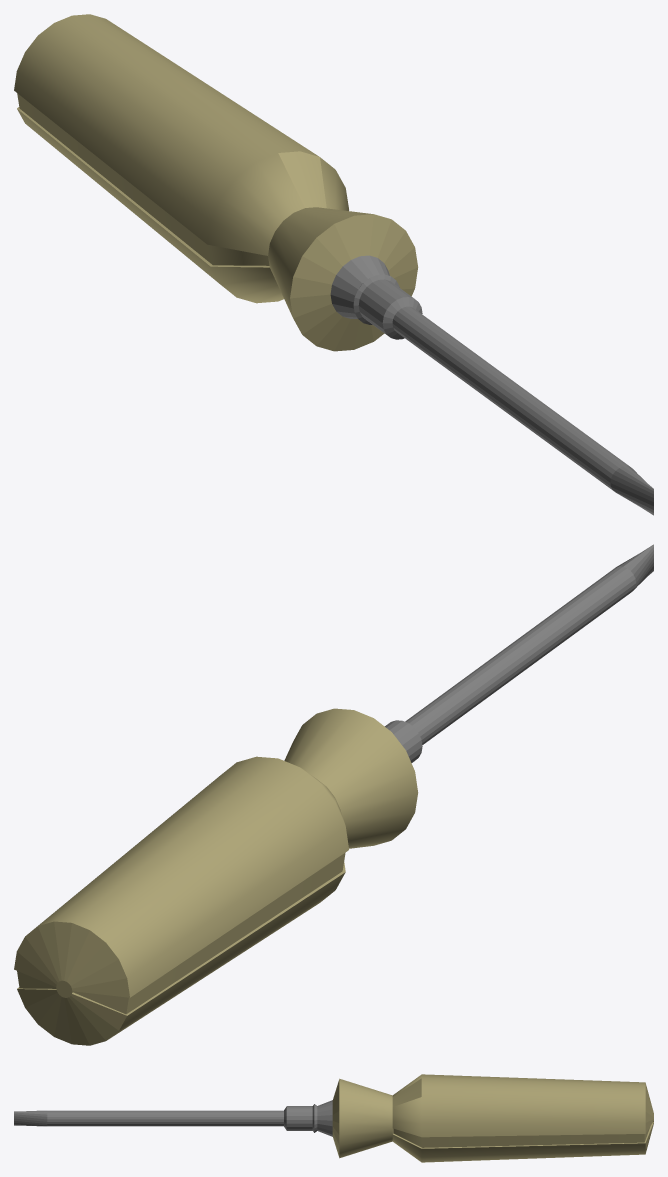
File: Tournevis.fbx
3 views of the same model, one above another, from view 1: azimuth 30°, elevation 25°; view 2: azimuth 150°, elevation 25°; view 3: azimuth 270°, elevation 25° (orthographic). The views are drawn at different scales.
Parts seen in each view (by area): view 1: Tournevis; view 2: Tournevis; view 3: Tournevis.
Part boxes in pixels (bbox=[...]): Tournevis: bbox=[14, 14, 653, 515]; Tournevis: bbox=[14, 544, 653, 1045]; Tournevis: bbox=[14, 1074, 653, 1162].
Size of the model in its own units: 0.056 by 0.056 by 0.4033.
